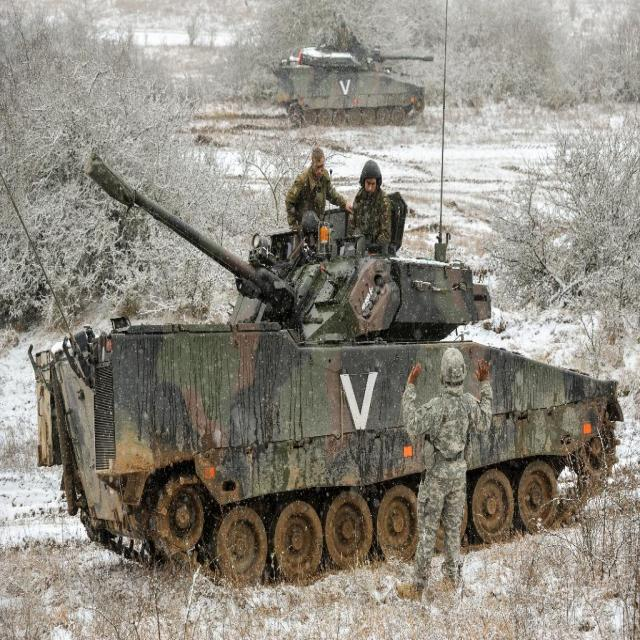tank: (0, 0, 625, 586), (244, 0, 434, 128)
